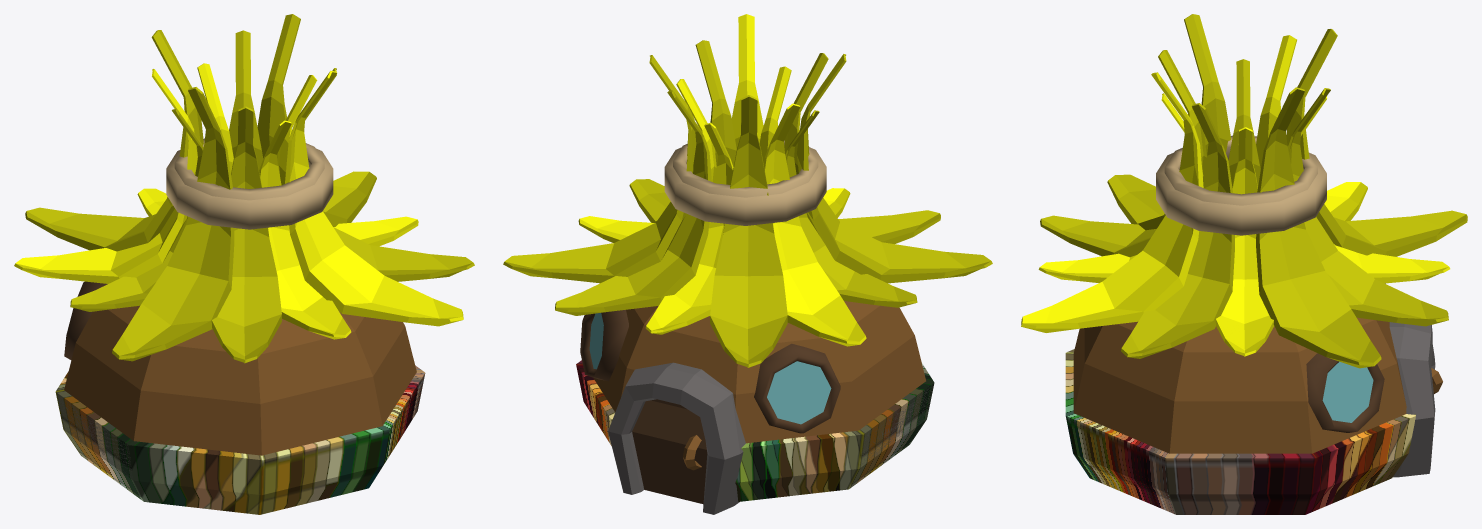
File: maison.fbx
3 renders of one model, left to right at view 1: azimuth 30°, elevation 25°; view 2: azimuth 150°, elevation 25°; view 3: azimuth 270°, elevation 25°, orthographic. The views are drawn at different scales.
Visible parts, largest first — view 1: Cube.003; view 2: Cube.003; view 3: Cube.003.
Part boxes in pixels (box(x1,y1,x2,y2)): Cube.003: box(14, 14, 474, 514); Cube.003: box(503, 14, 992, 514); Cube.003: box(1021, 14, 1467, 514).
Bounding box in the file's own units: 500 × 500 × 500.
